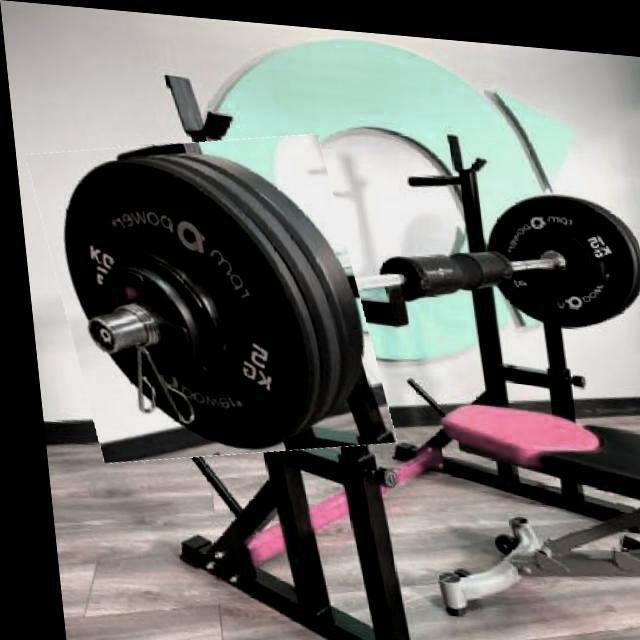barbell: (32, 121, 382, 472)
